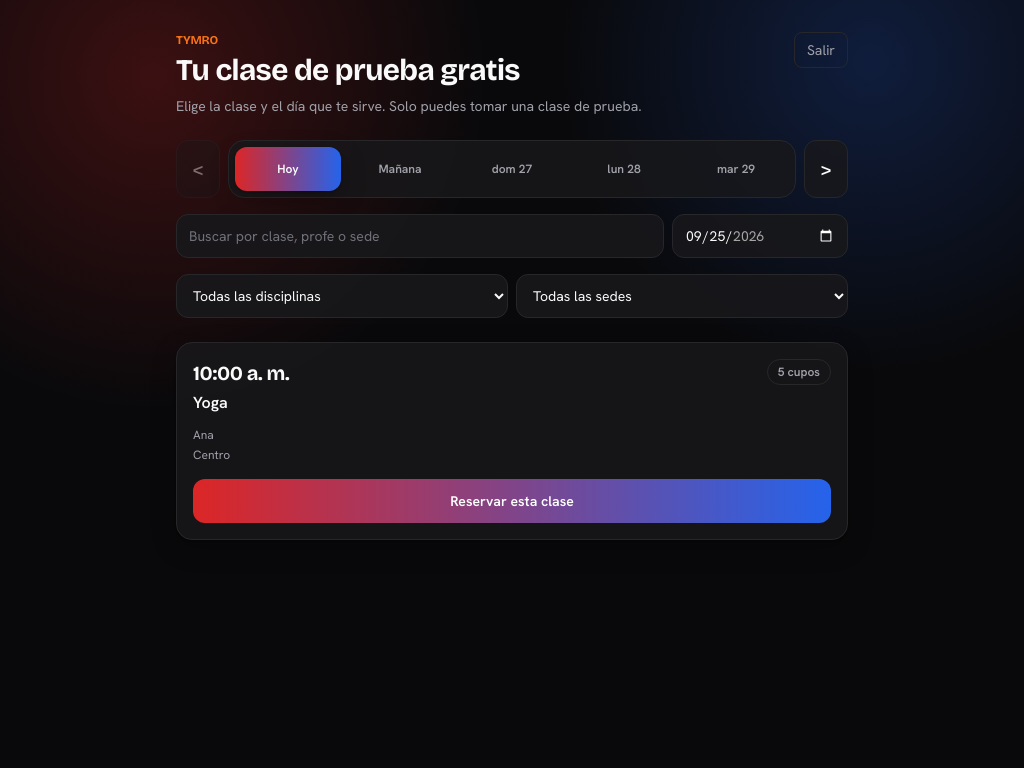
Test: TrialBookingPage › si la reserva falla, NO refresca la sesión y muestra el error
This screenshot has width=1024, height=768.
Click the button "Reservar esta clase": (512, 501) 193,479 -> 831,523
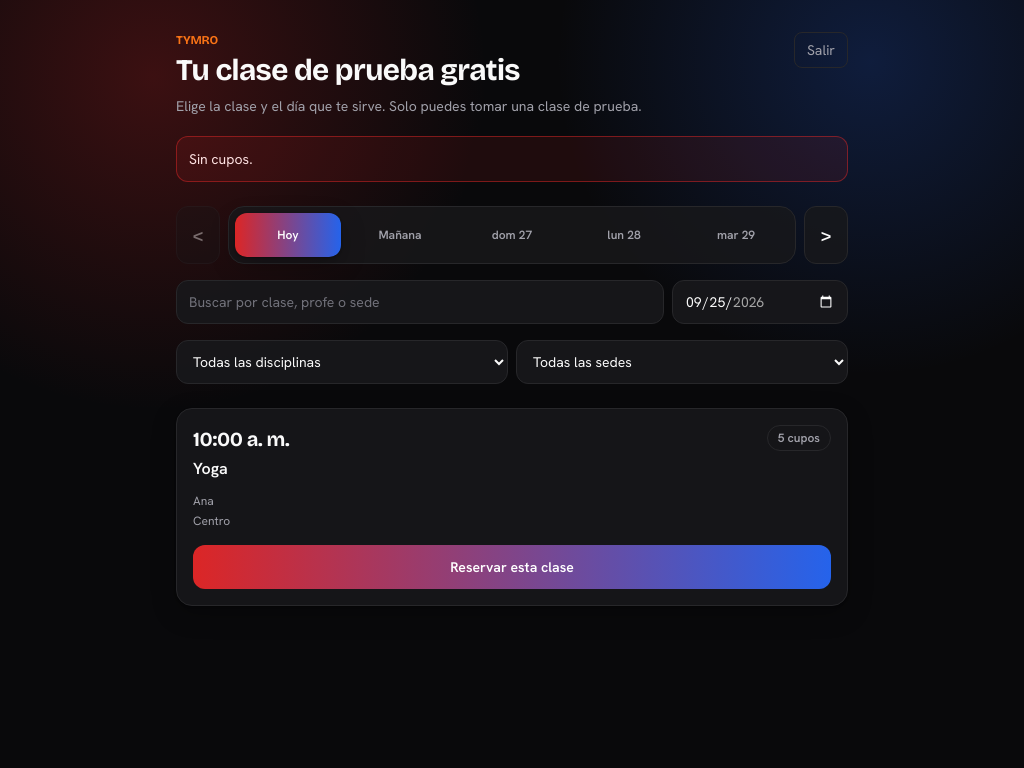
Result: the text "Sin cupos." is shown at 176,136 -> 848,182
